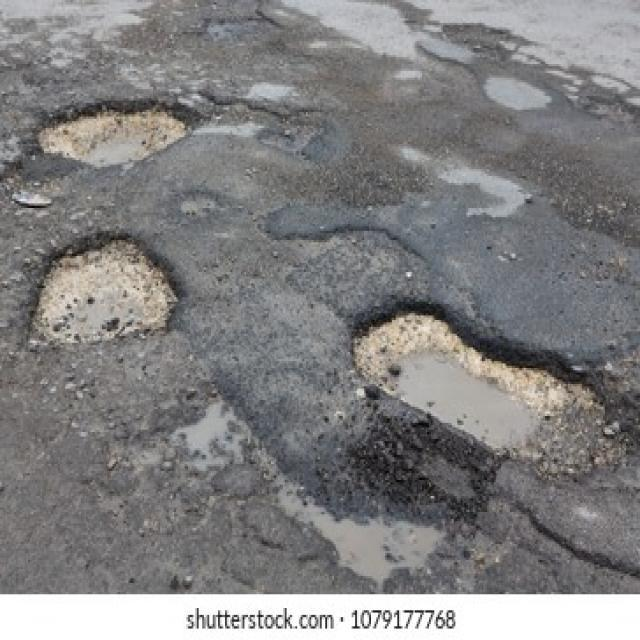Pothole: (351, 299, 640, 491), (21, 234, 181, 348), (35, 98, 199, 172), (212, 96, 326, 155), (205, 14, 242, 44)
